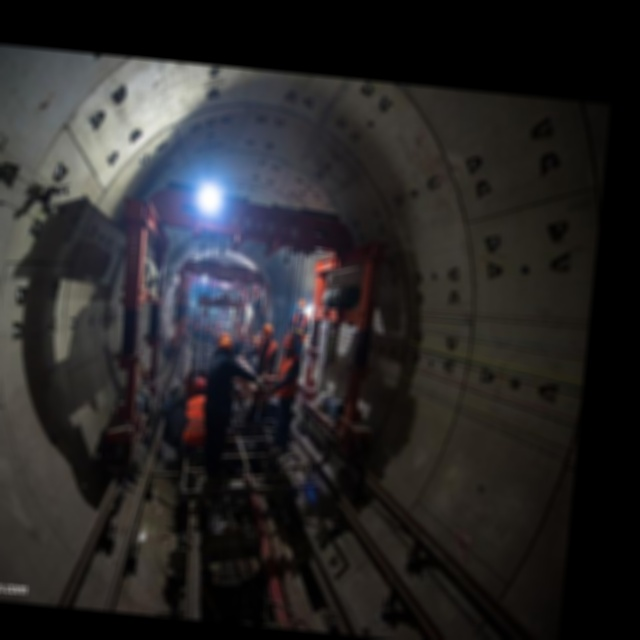Con_Casco: (259, 323, 275, 342)
Con_Chaleco: (274, 353, 301, 399), (183, 394, 208, 441), (290, 311, 312, 340)
